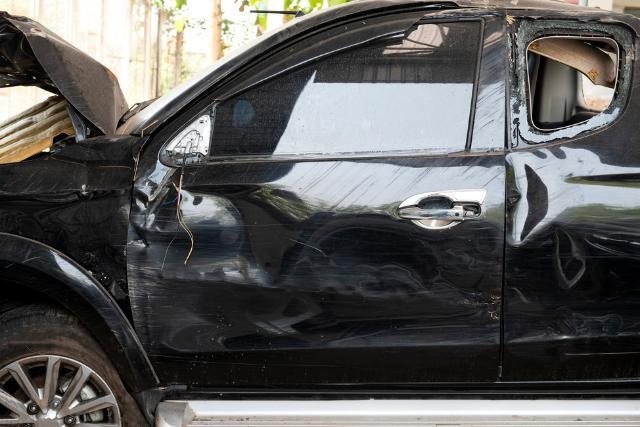Bonnet: (0, 9, 114, 141)
Door: (153, 19, 511, 377), (517, 30, 640, 378)
